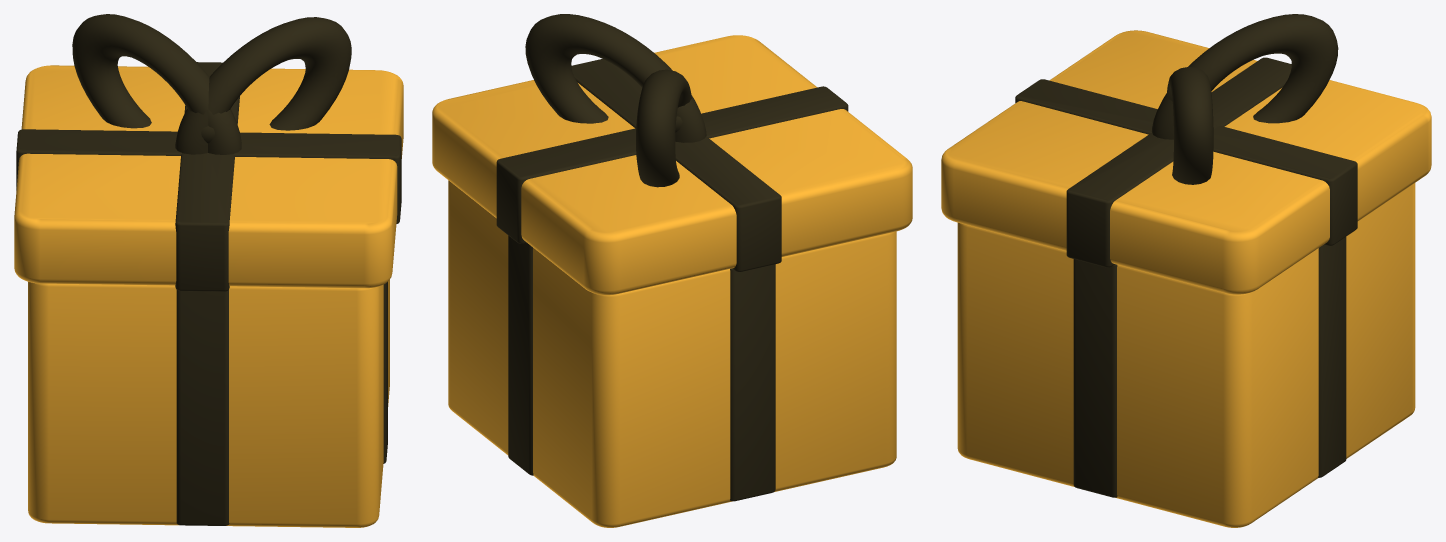
The model's file is rh_gift.glb.
3 views of the same model, side by side, from view 1: azimuth 30°, elevation 25°; view 2: azimuth 150°, elevation 25°; view 3: azimuth 270°, elevation 25° (orthographic). The views are drawn at different scales.
Visible parts, largest first — view 1: Gift_Body, Gift_Lid, Gift_Band_1, Gift_Bow_0, Gift_Bow_1, Gift_LidBand_0, Gift_LidBand_1, Gift_Band_0; view 2: Gift_Body, Gift_Lid, Gift_Band_0, Gift_LidBand_0, Gift_Bow_0, Gift_LidBand_1, Gift_Band_1, Gift_Bow_1; view 3: Gift_Body, Gift_Lid, Gift_Band_0, Gift_LidBand_0, Gift_LidBand_1, Gift_Bow_1, Gift_Band_1, Gift_Bow_0.
Part boxes in pixels (<box>): Gift_Body: <box>28,279,389,527</box>; Gift_Lid: <box>14,65,403,288</box>; Gift_Band_1: <box>176,290,229,525</box>; Gift_Bow_0: <box>175,17,351,154</box>; Gift_Bow_1: <box>72,14,241,154</box>; Gift_LidBand_0: <box>16,129,401,223</box>; Gift_LidBand_1: <box>175,62,239,291</box>; Gift_Band_0: <box>383,282,387,463</box>; Gift_Body: <box>448,180,896,527</box>; Gift_Lid: <box>432,35,912,295</box>; Gift_Band_0: <box>730,264,775,501</box>; Gift_LidBand_0: <box>571,59,781,271</box>; Gift_Bow_0: <box>525,14,706,142</box>; Gift_LidBand_1: <box>496,86,848,243</box>; Gift_Band_1: <box>508,235,533,475</box>; Gift_Bow_1: <box>636,69,691,187</box>; Gift_Body: <box>957,183,1415,527</box>; Gift_Lid: <box>941,30,1431,294</box>; Gift_Band_0: <box>1073,259,1117,497</box>; Gift_LidBand_0: <box>1066,57,1291,267</box>; Gift_LidBand_1: <box>1015,79,1357,245</box>; Gift_Bow_1: <box>1152,14,1338,139</box>; Gift_Band_1: <box>1318,237,1346,477</box>; Gift_Bow_0: <box>1166,67,1213,184</box>.
Size of the model in its own units: 1.85 by 1.66 by 1.85.
